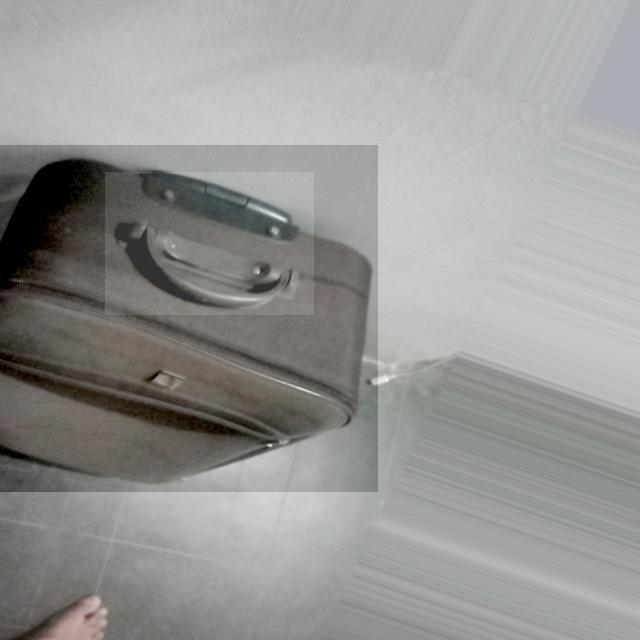Suitcase: (1, 143, 378, 489)
